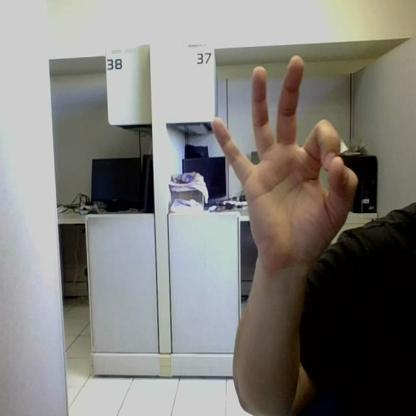F: (213, 56, 359, 254)
